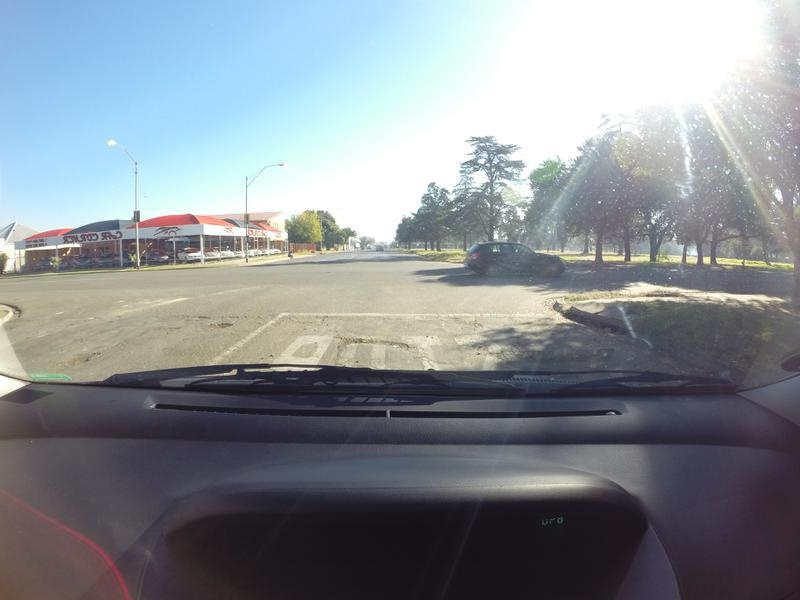pothole: (462, 344, 602, 367), (324, 329, 412, 352), (58, 345, 99, 373), (499, 313, 546, 330), (207, 310, 239, 333), (437, 315, 481, 329), (190, 307, 204, 330)
